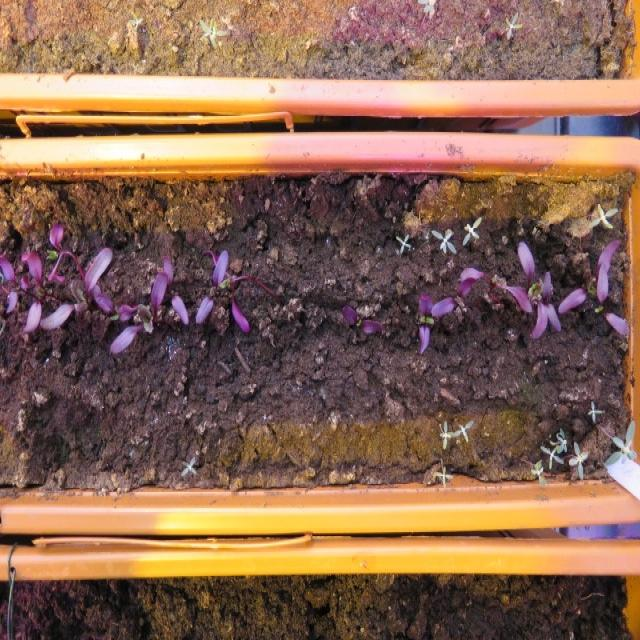crop: (336, 300, 386, 337)
weed: (600, 416, 637, 468), (582, 194, 618, 230), (566, 436, 590, 480), (498, 6, 524, 42), (428, 224, 456, 255), (584, 393, 605, 427), (460, 212, 481, 245), (430, 459, 453, 489), (393, 228, 412, 257), (177, 453, 197, 479)
